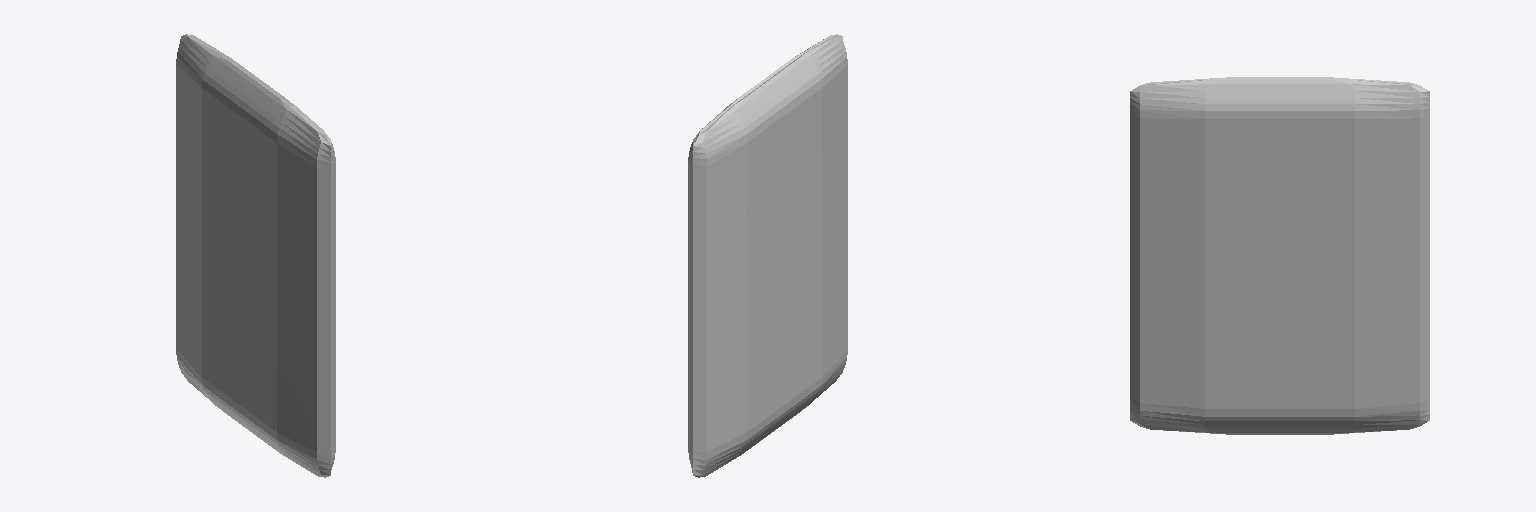
Rendered from Sunflowe_Packet.mtl.obj.
The picture shows the model from 3 angles: view 1: azimuth 30°, elevation 25°; view 2: azimuth 150°, elevation 25°; view 3: azimuth 270°, elevation 25°; orthographic projection.
Parts seen in each view (by area): view 1: Cube; view 2: Cube; view 3: Cube.
Part boxes in pixels (x1,y1,x2,y2): Cube: (176,34,335,477); Cube: (688,34,847,477); Cube: (1130,77,1429,434).
Bounding box in the file's own units: 0.5994 × 6.06 × 4.66.